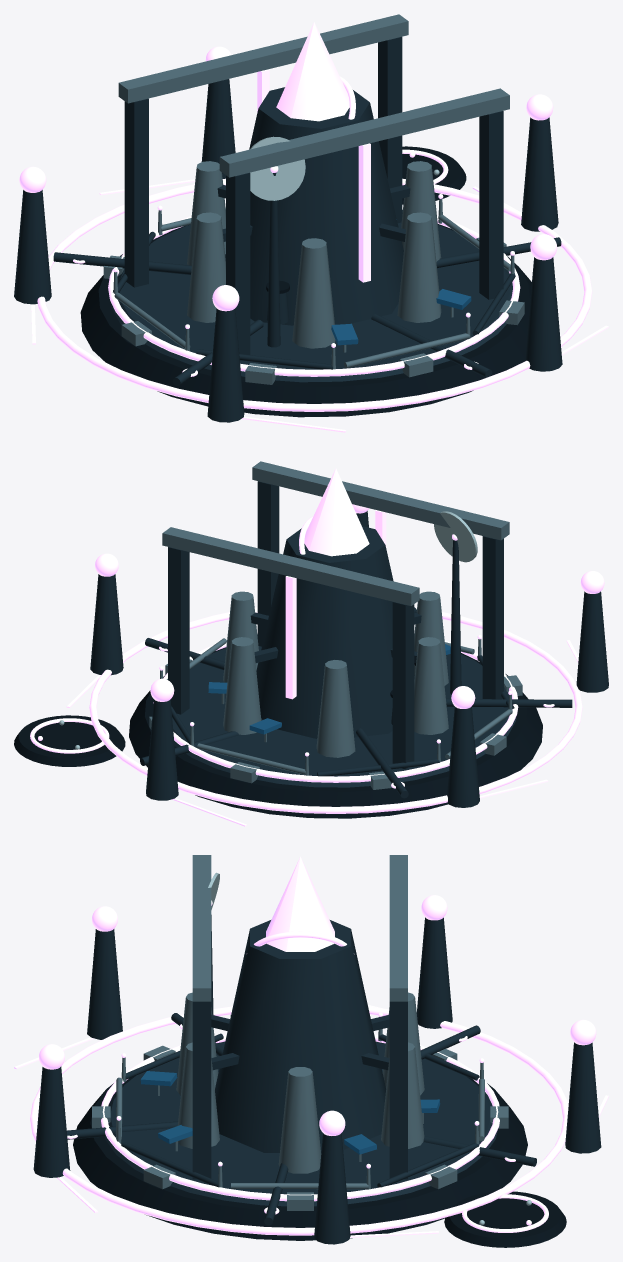
Rendered from naniteFactory-stage3.glb.
3 renders of one model, top to bottom at view 1: azimuth 30°, elevation 25°; view 2: azimuth 150°, elevation 25°; view 3: azimuth 270°, elevation 25°, orthographic. The views are drawn at different scales.
Visible parts, largest first — view 1: assembler-spire, upper-deck, armored-foundation, district-grid-2, assembly-gantry-2.25, assembly-gantry--2.25, gantry-support--3.25--2.25, gantry-support-3.25-2.25, nanite-crown, assembler-pylon-1, assembler-pylon-2, gantry-support--3.25-2.25 (+27 smaller); view 2: assembler-spire, upper-deck, armored-foundation, district-grid-2, assembly-gantry--2.25, assembly-gantry-2.25, landing-pad, gantry-support--3.25--2.25, gantry-support--3.25-2.25, gantry-support-3.25--2.25, nanite-crown, assembler-pylon-4 (+18 smaller); view 3: assembler-spire, upper-deck, armored-foundation, district-grid-2, landing-pad, perimeter-light, assembler-pylon-0, nanite-crown, gantry-support-3.25-2.25, gantry-support-3.25--2.25, energy-pylon-4, energy-pylon-0 (+25 smaller).
Boxes of the visible parts, box(x1,y1,x2,y2) form: assembler-spire: box(249, 87, 403, 325); upper-deck: box(110, 222, 518, 382); armored-foundation: box(80, 224, 531, 417); district-grid-2: box(37, 178, 592, 411); assembly-gantry-2.25: box(219, 88, 509, 177); assembly-gantry--2.25: box(118, 14, 408, 103); gantry-support--3.25--2.25: box(124, 98, 148, 287); gantry-support-3.25-2.25: box(479, 111, 503, 299); nanite-crown: box(276, 22, 349, 121); assembler-pylon-1: box(397, 212, 441, 322); assembler-pylon-2: box(292, 238, 335, 348); gantry-support--3.25-2.25: box(226, 172, 250, 360); assembler-spire: box(256, 526, 414, 738); upper-deck: box(172, 646, 516, 787); armored-foundation: box(129, 647, 542, 818); district-grid-2: box(89, 607, 582, 813); assembly-gantry--2.25: box(162, 527, 419, 605); assembly-gantry-2.25: box(252, 461, 509, 540); landing-pad: box(14, 715, 125, 766); gantry-support--3.25--2.25: box(392, 602, 414, 769); gantry-support--3.25-2.25: box(482, 536, 503, 699); gantry-support-3.25--2.25: box(168, 547, 189, 714); nanite-crown: box(304, 468, 369, 556); assembler-pylon-4: box(316, 660, 355, 757); assembler-spire: box(215, 920, 386, 1152); upper-deck: box(104, 1042, 497, 1206); armored-foundation: box(73, 1041, 527, 1240); district-grid-2: box(30, 1006, 568, 1235); landing-pad: box(444, 1191, 566, 1247); perimeter-light: box(101, 1034, 499, 1201); assembler-pylon-0: box(278, 1067, 321, 1173); nanite-crown: box(266, 856, 334, 951); gantry-support-3.25-2.25: box(192, 1001, 211, 1179); gantry-support-3.25--2.25: box(389, 1001, 407, 1179); energy-pylon-4: box(314, 1133, 350, 1244); energy-pylon-0: box(33, 1066, 70, 1177).
Size of the model in its own units: 13.71 by 7.49 by 14.
